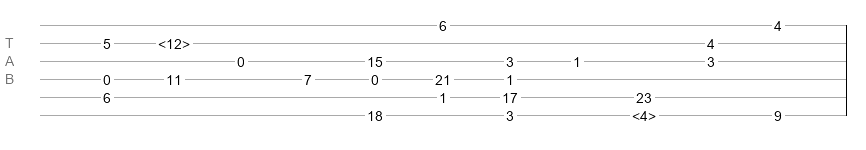0: (103, 72, 111, 82), (237, 54, 245, 64), (371, 72, 379, 82)
1: (439, 90, 447, 100), (506, 72, 514, 82), (573, 54, 581, 64)
11: (166, 72, 182, 82)
15: (367, 54, 383, 64)
17: (502, 90, 518, 100)
18: (367, 108, 383, 118)
21: (435, 72, 451, 82)
23: (636, 90, 652, 100)
3: (506, 54, 514, 64), (506, 108, 514, 118), (707, 54, 715, 64)
4: (707, 36, 715, 46), (774, 18, 782, 28)
5: (103, 36, 111, 46)
6: (103, 90, 111, 100), (439, 18, 447, 28)
7: (304, 72, 312, 82)
9: (774, 108, 782, 118)
harmonic: (158, 36, 190, 46), (632, 108, 656, 118)
